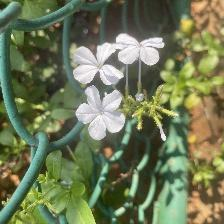chitrak: (74, 86, 126, 145), (71, 43, 124, 87), (116, 34, 167, 69)
